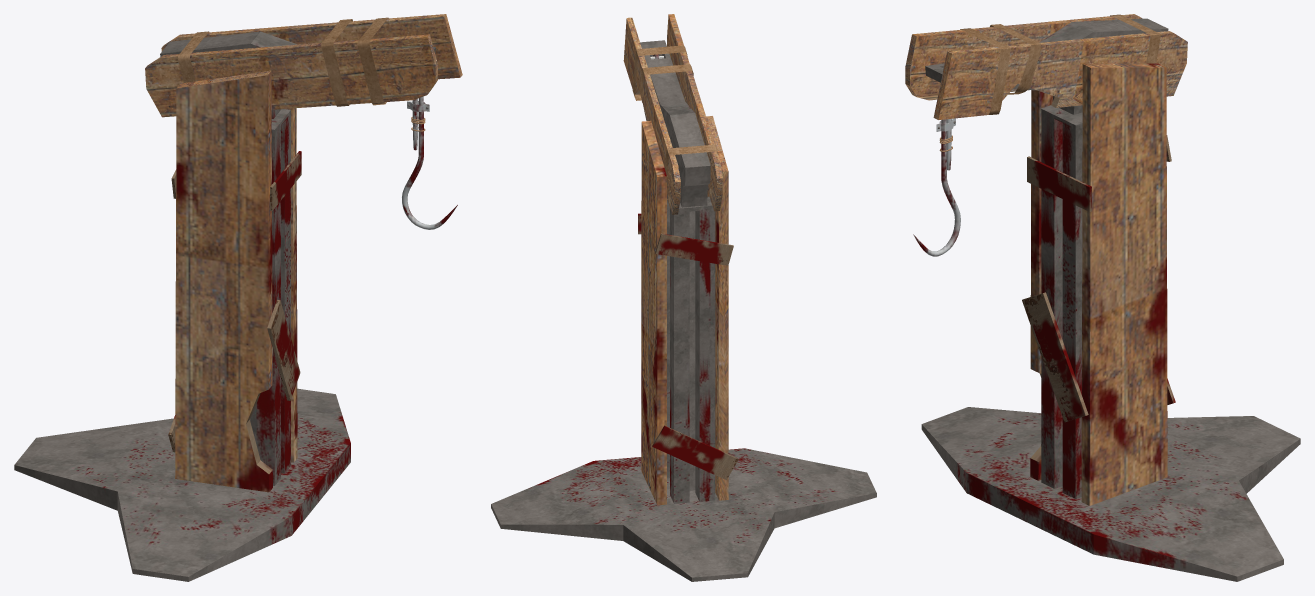
File: modelhook.glb
3 views of the same model, side by side, from view 1: azimuth 30°, elevation 25°; view 2: azimuth 150°, elevation 25°; view 3: azimuth 270°, elevation 25° (orthographic). The views are drawn at different scales.
Parts seen in each view (by area): view 1: pCube37.004; view 2: pCube37.004; view 3: pCube37.004.
Boxes of the visible parts, x1=… form: pCube37.004: x1=14, y1=14, x2=462, y2=581; pCube37.004: x1=491, y1=14, x2=876, y2=581; pCube37.004: x1=905, y1=14, x2=1300, y2=581.
Size of what is drawn, in the model's own units: 5.31 by 7.52 by 5.23.
7 materials, 7 textured.
